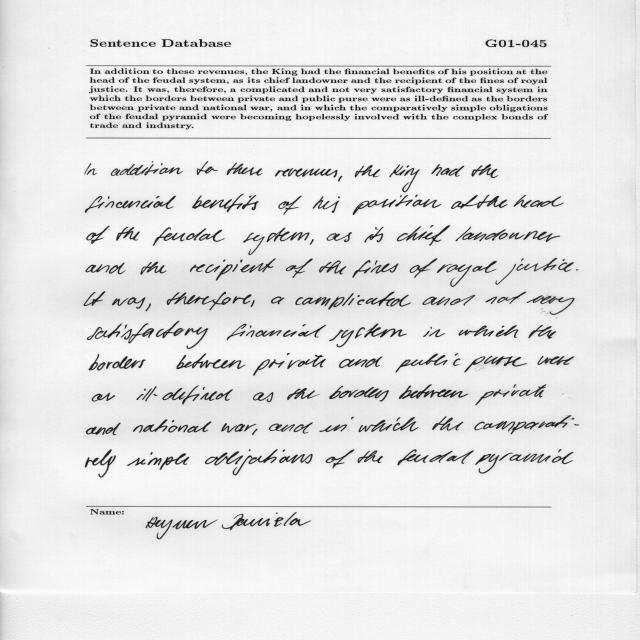word: (88, 321, 209, 349), (205, 450, 313, 476), (137, 386, 274, 405), (475, 450, 573, 474), (495, 258, 574, 285), (295, 292, 411, 310), (475, 416, 580, 435), (190, 259, 276, 281), (329, 324, 407, 348), (243, 228, 310, 255), (253, 353, 326, 376), (227, 324, 326, 340), (456, 227, 561, 242), (437, 261, 497, 287), (85, 196, 176, 213), (167, 292, 251, 310), (475, 385, 546, 406), (153, 227, 225, 246), (353, 195, 418, 215), (396, 353, 461, 373), (398, 450, 474, 466), (192, 194, 259, 212), (127, 452, 189, 470), (133, 419, 212, 433), (111, 161, 183, 176), (397, 226, 450, 246), (177, 354, 246, 369), (464, 356, 528, 372), (89, 354, 146, 371), (399, 385, 468, 399), (527, 295, 575, 315), (359, 417, 418, 432), (85, 450, 116, 478), (389, 165, 420, 192), (353, 260, 399, 278), (451, 195, 508, 209), (459, 325, 519, 338), (514, 195, 564, 208), (275, 168, 337, 178), (423, 295, 476, 306), (286, 258, 313, 278), (410, 258, 437, 278), (486, 291, 527, 304), (326, 450, 354, 469), (354, 387, 389, 402), (320, 417, 355, 432), (339, 356, 382, 368), (269, 423, 313, 434), (433, 416, 464, 431), (313, 196, 340, 213), (278, 196, 302, 215), (227, 163, 262, 176), (86, 263, 126, 274), (432, 164, 465, 177), (86, 423, 121, 435), (87, 226, 109, 244), (112, 297, 145, 309), (287, 388, 320, 400), (319, 261, 347, 275), (472, 164, 499, 178), (529, 325, 556, 339), (330, 386, 359, 399), (141, 261, 167, 275), (222, 423, 257, 433), (116, 227, 140, 241), (538, 356, 574, 365), (357, 451, 383, 463), (355, 165, 380, 177), (364, 227, 384, 242), (197, 161, 218, 175), (84, 292, 105, 306), (326, 232, 352, 242), (413, 199, 441, 208), (423, 327, 445, 337), (92, 393, 115, 402), (85, 163, 97, 175), (271, 297, 284, 305), (146, 304, 151, 312), (252, 429, 258, 435), (251, 300, 255, 307), (338, 176, 342, 182), (310, 239, 314, 245), (576, 269, 579, 271)
